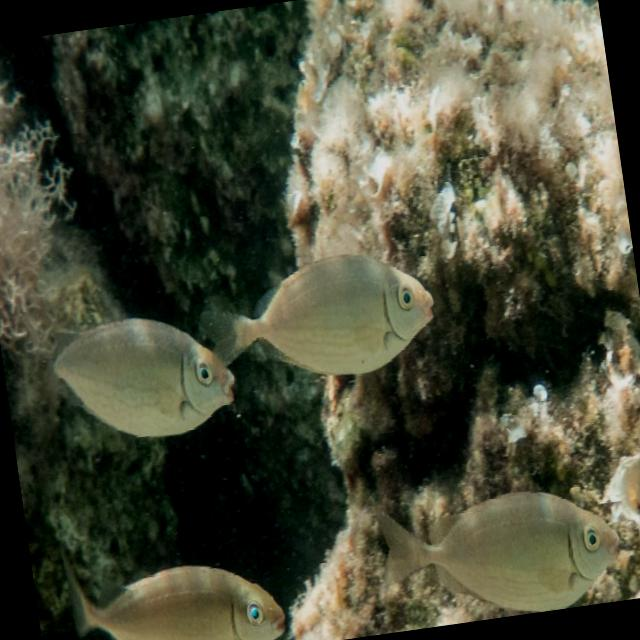Sokar Baligi: (186, 224, 454, 419), (356, 447, 632, 635), (17, 292, 246, 468)
